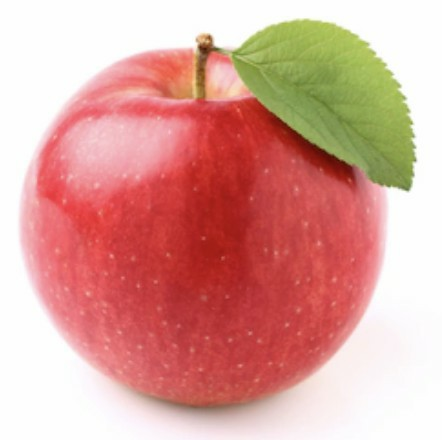fresh_apple: (17, 44, 392, 412)
